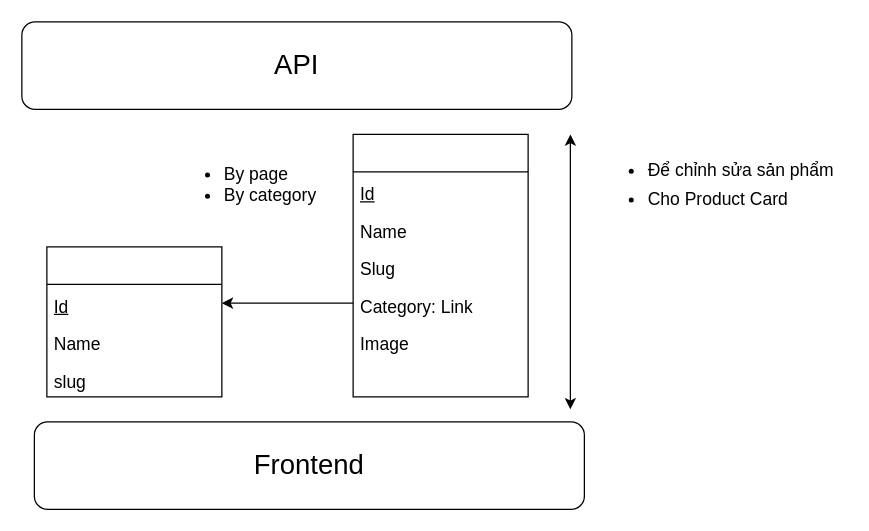
This 869x531 diagram has some shape labels left out. The box of each missing label's shape, as (x1, y1, x2, y2) in pixels:
Category: (46, 246, 222, 397)
Products: (352, 133, 528, 397)
